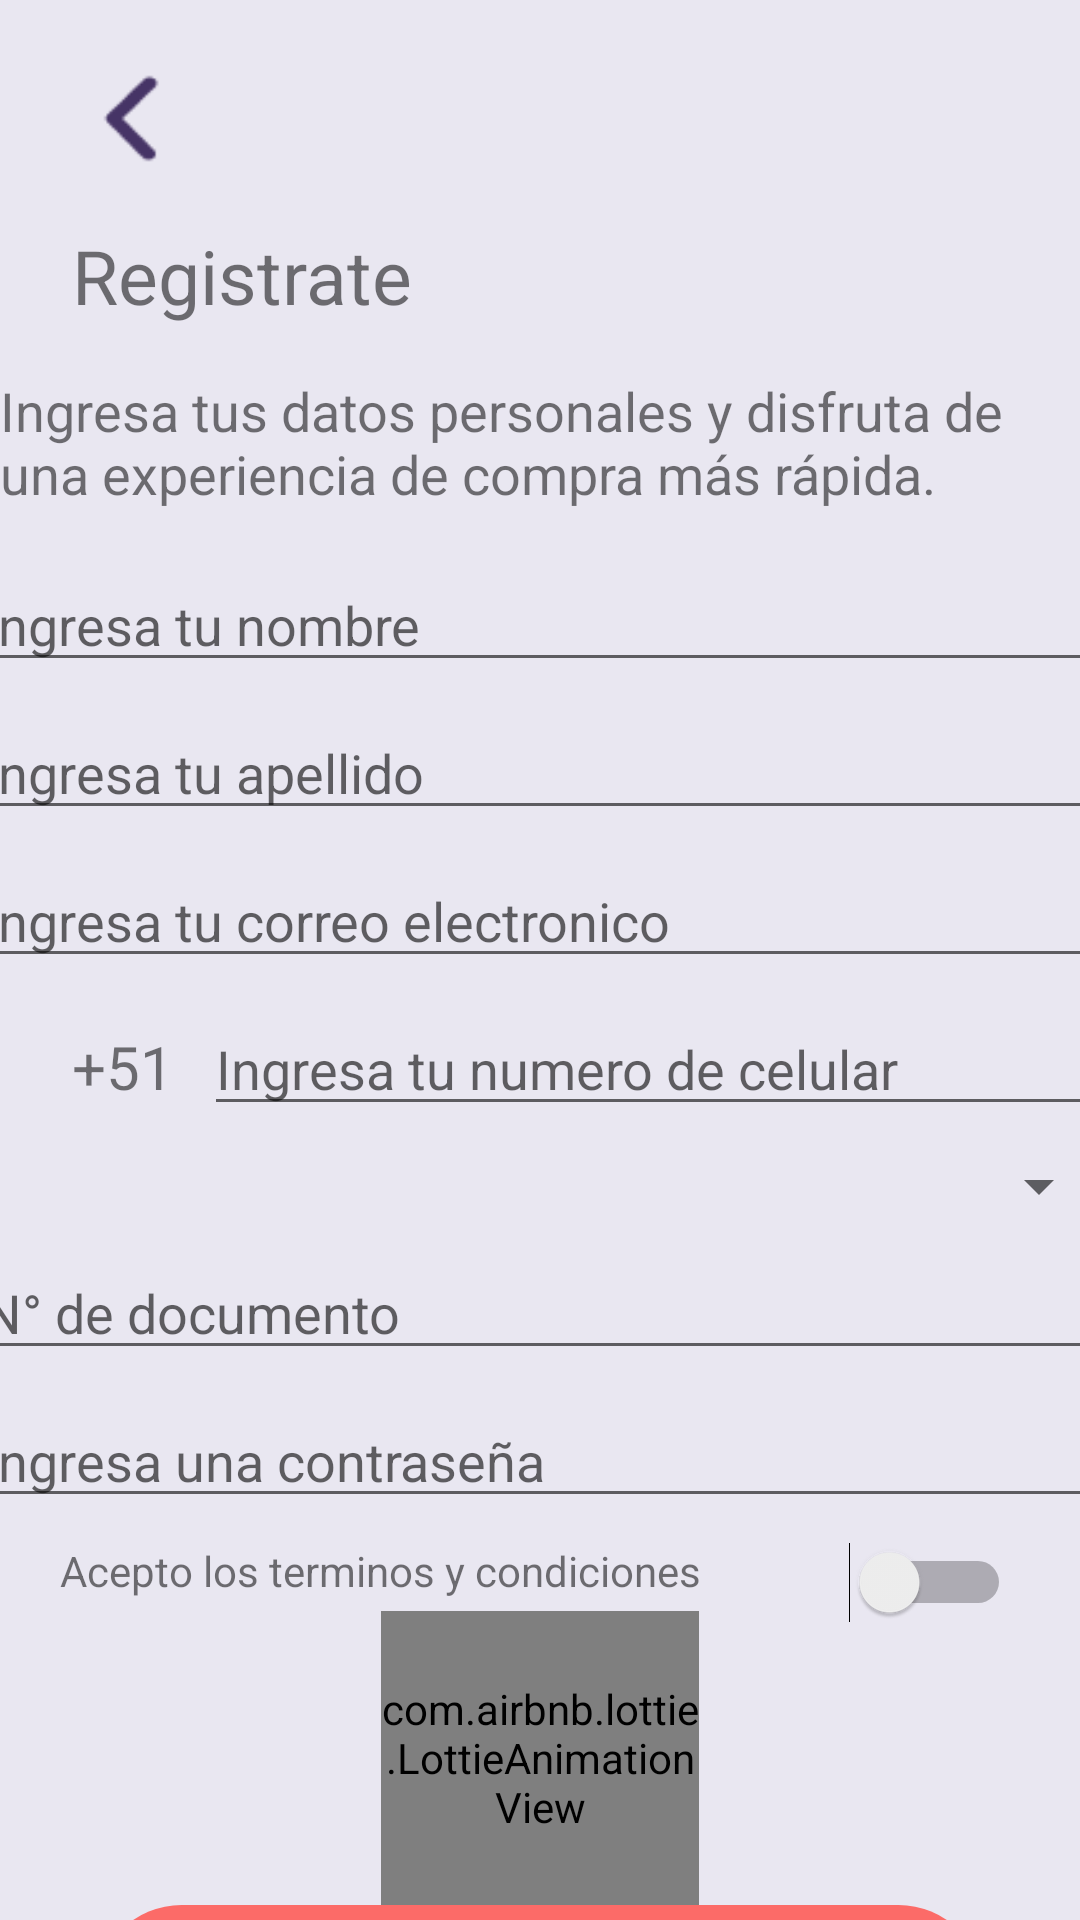

Icon bounding boxes for this 1080px×1920px phone screenshot, format {"left": x1, "top": y1, "right": x2, "bottom": y2}:
arrow back: {"left": 104, "top": 76, "right": 158, "bottom": 161}
